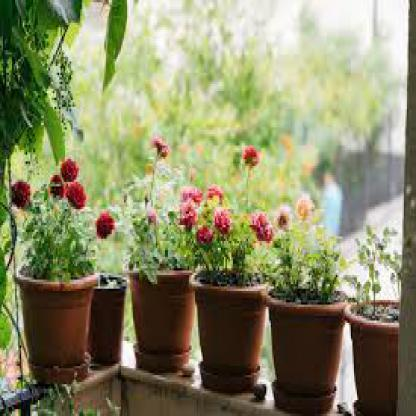Rose-Mawar: (181, 185, 231, 247), (51, 149, 86, 212), (249, 208, 272, 249), (9, 172, 33, 206), (149, 129, 172, 163), (240, 140, 260, 174), (95, 208, 114, 240)
